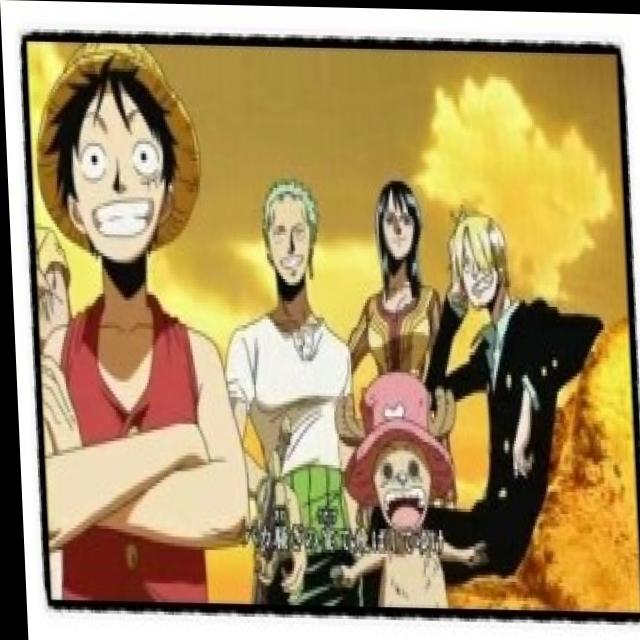Chyopa: (327, 365, 462, 539)
Luffy: (28, 33, 211, 278)
NicoRobin: (370, 172, 423, 303)
Sangdi: (440, 194, 512, 319)
Zoro: (252, 160, 323, 304)
